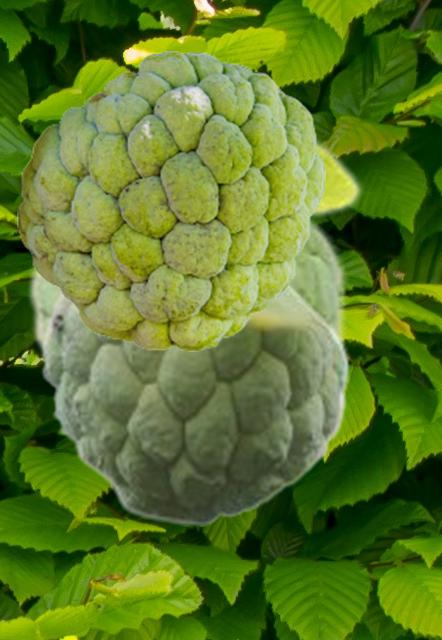atis: (17, 51, 324, 350), (25, 132, 363, 358), (40, 282, 351, 525)
